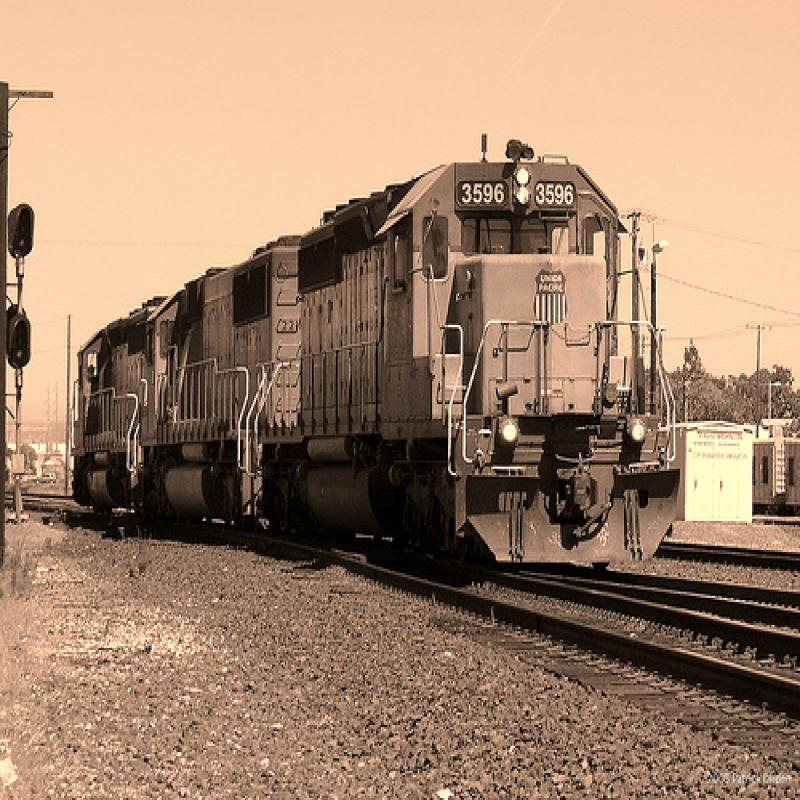train: (75, 134, 680, 572)
